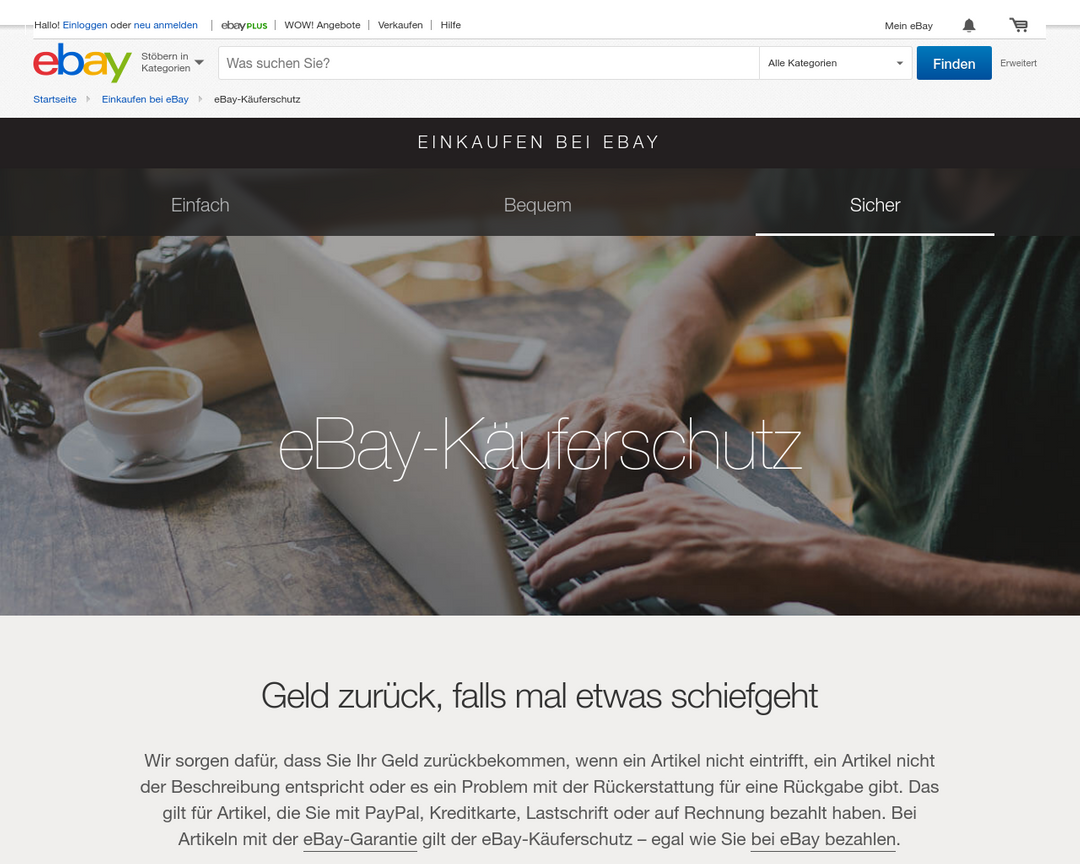Ebay: (26, 41, 135, 85)
